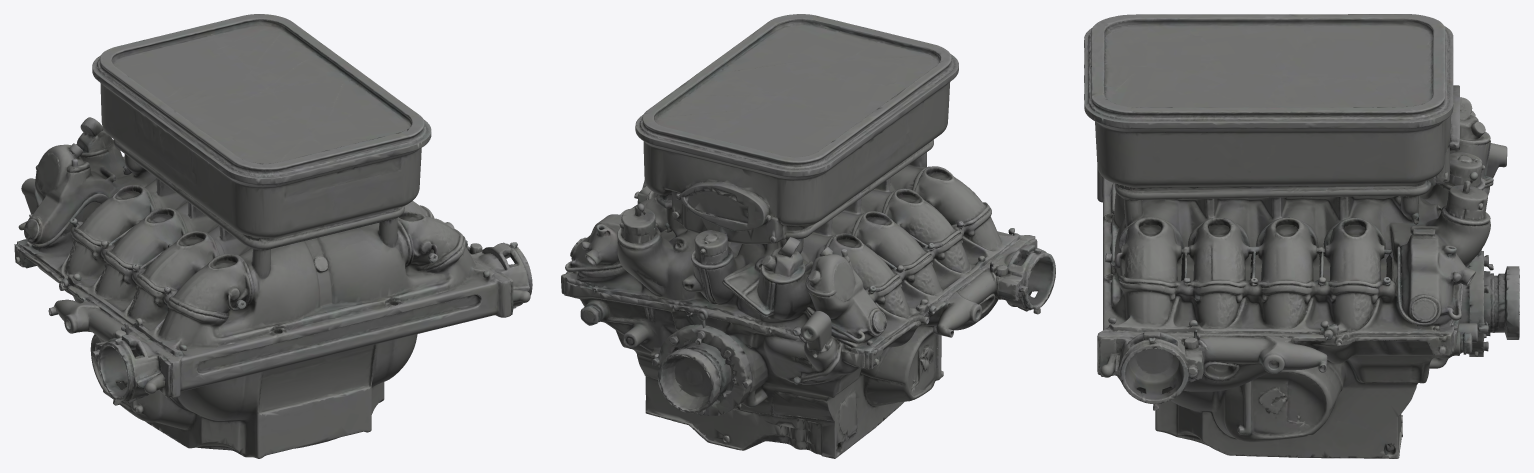
The model's file is carengine-optimized.glb.
The picture shows the model from 3 angles, left to right: view 1: azimuth 30°, elevation 25°; view 2: azimuth 150°, elevation 25°; view 3: azimuth 270°, elevation 25°; orthographic projection. The views are drawn at different scales.
Visible parts, largest first — view 1: tripo_node_7dd6735b-ad4b-4bef-8dc4-07d3a125827d; view 2: tripo_node_7dd6735b-ad4b-4bef-8dc4-07d3a125827d; view 3: tripo_node_7dd6735b-ad4b-4bef-8dc4-07d3a125827d.
Boxes of the visible parts, box(x1,y1,x2,y2) form: tripo_node_7dd6735b-ad4b-4bef-8dc4-07d3a125827d: box(14, 14, 532, 458); tripo_node_7dd6735b-ad4b-4bef-8dc4-07d3a125827d: box(561, 14, 1055, 458); tripo_node_7dd6735b-ad4b-4bef-8dc4-07d3a125827d: box(1084, 14, 1519, 458).
Size of the model in its own units: 0.9997 by 0.7805 by 0.8591.
1 material, 1 textured.
